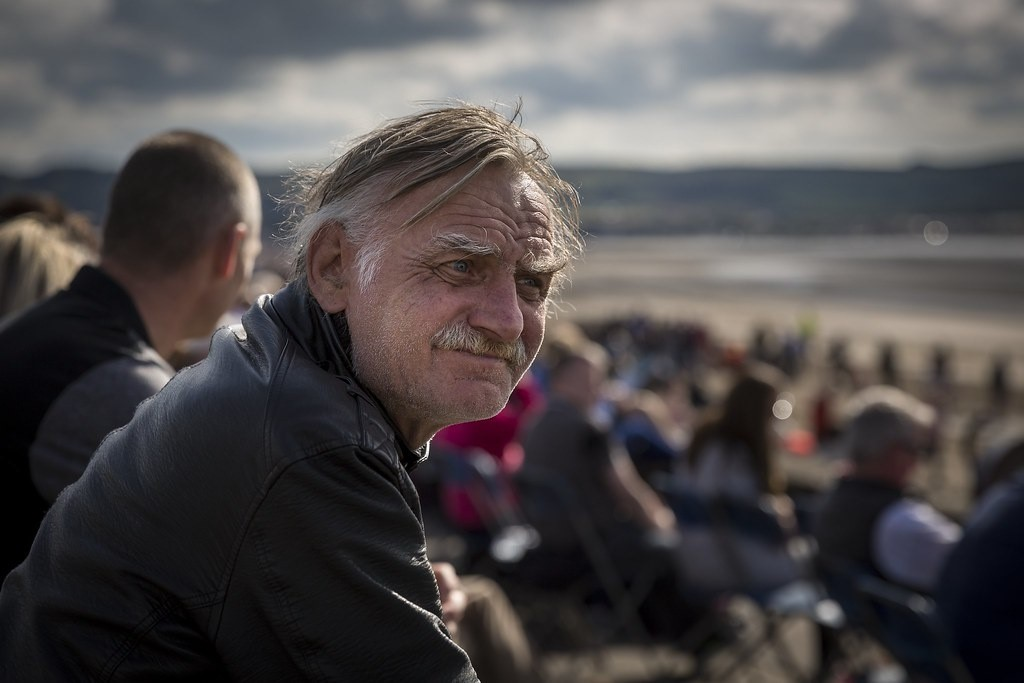face_no_mask: (299, 115, 563, 425)
